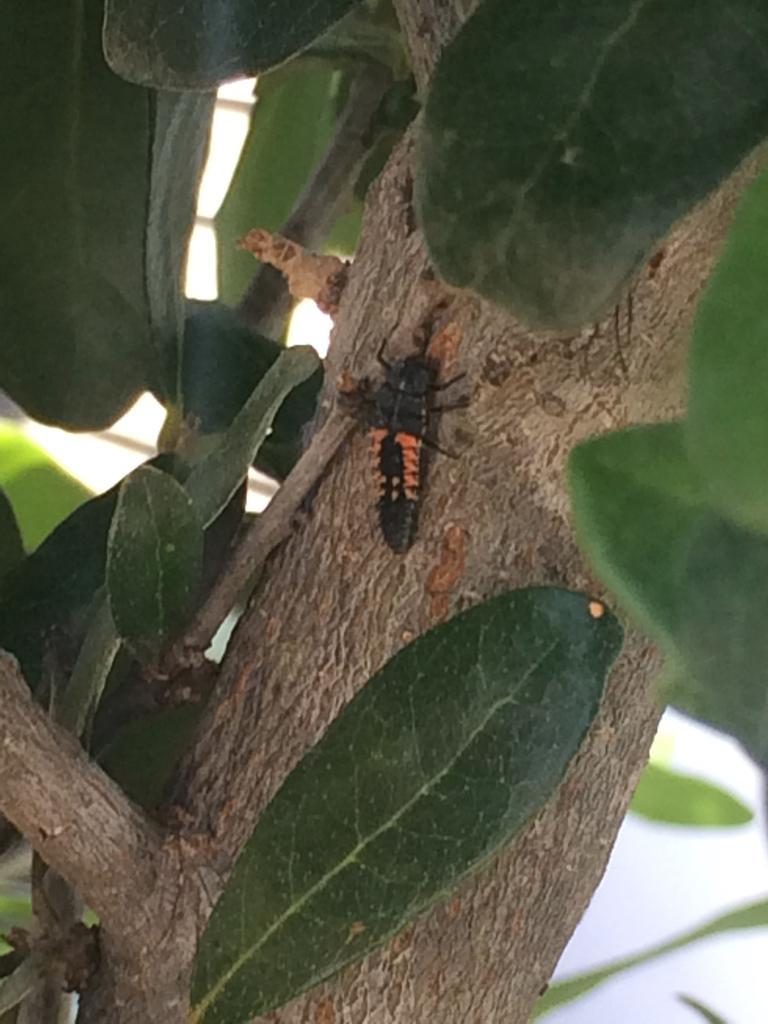ladybug: (364, 334, 476, 556)
